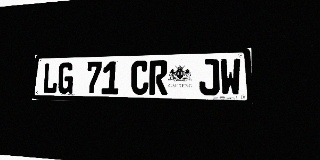1: (101, 61, 119, 94)
7: (85, 62, 102, 94)
C: (131, 60, 149, 95)
G: (57, 62, 74, 94)
J: (199, 59, 219, 96)
L: (42, 63, 59, 94)
R: (149, 60, 168, 95)
W: (220, 58, 241, 96)
